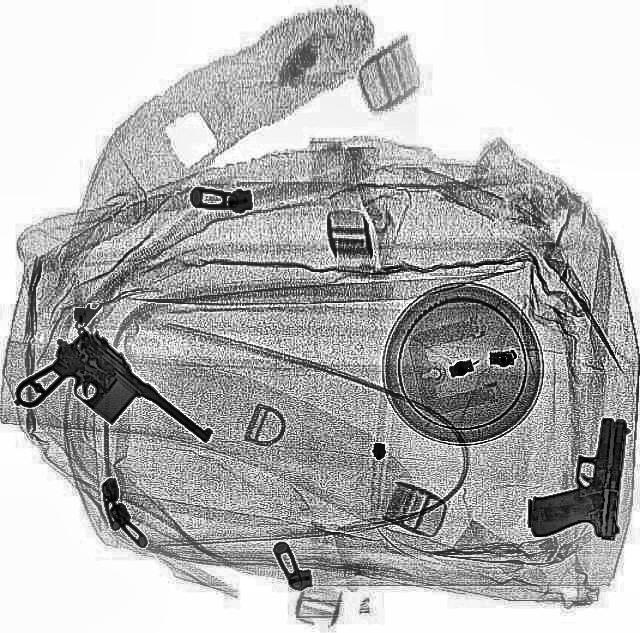Gun: (4, 315, 218, 503), (524, 411, 628, 543)
